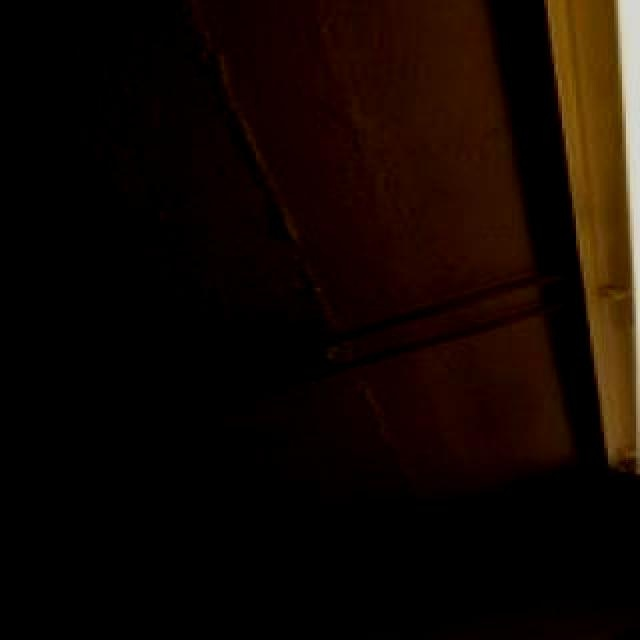fluorescent tube: (582, 0, 640, 498)
